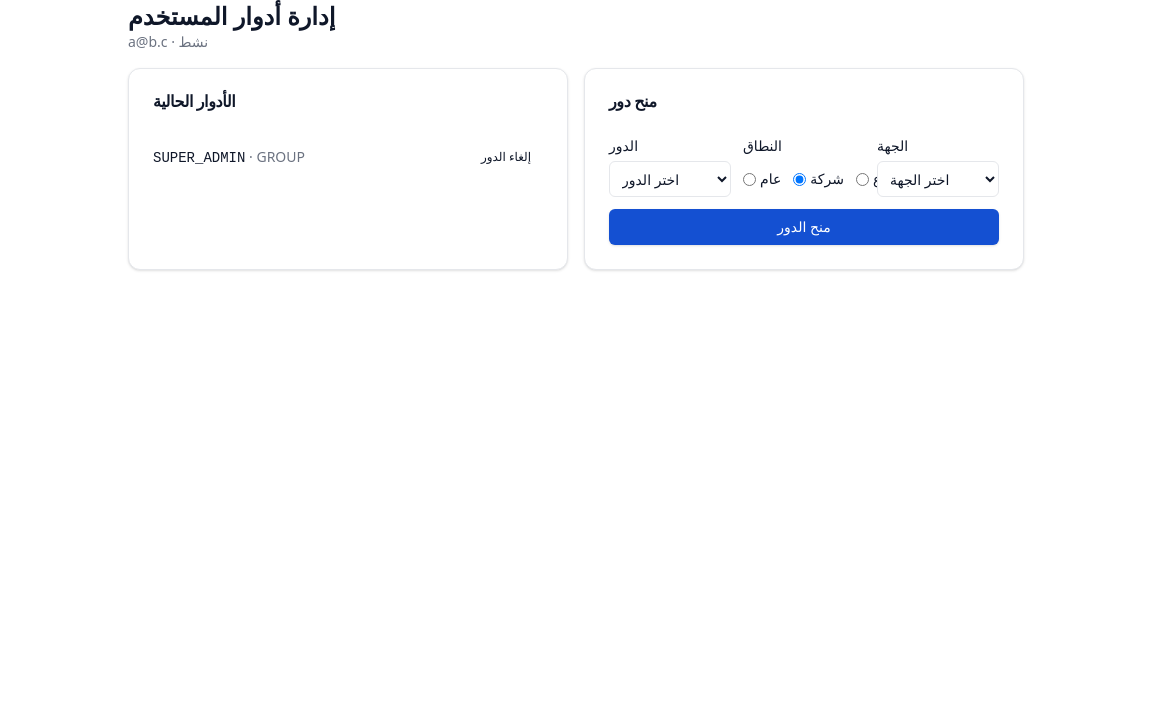
Test: ManageRolesPage › revoking own SUPER_ADMIN shows the strong warning
Click the button "إلغاء الدور" at (506, 157), box [469,141,543,173]
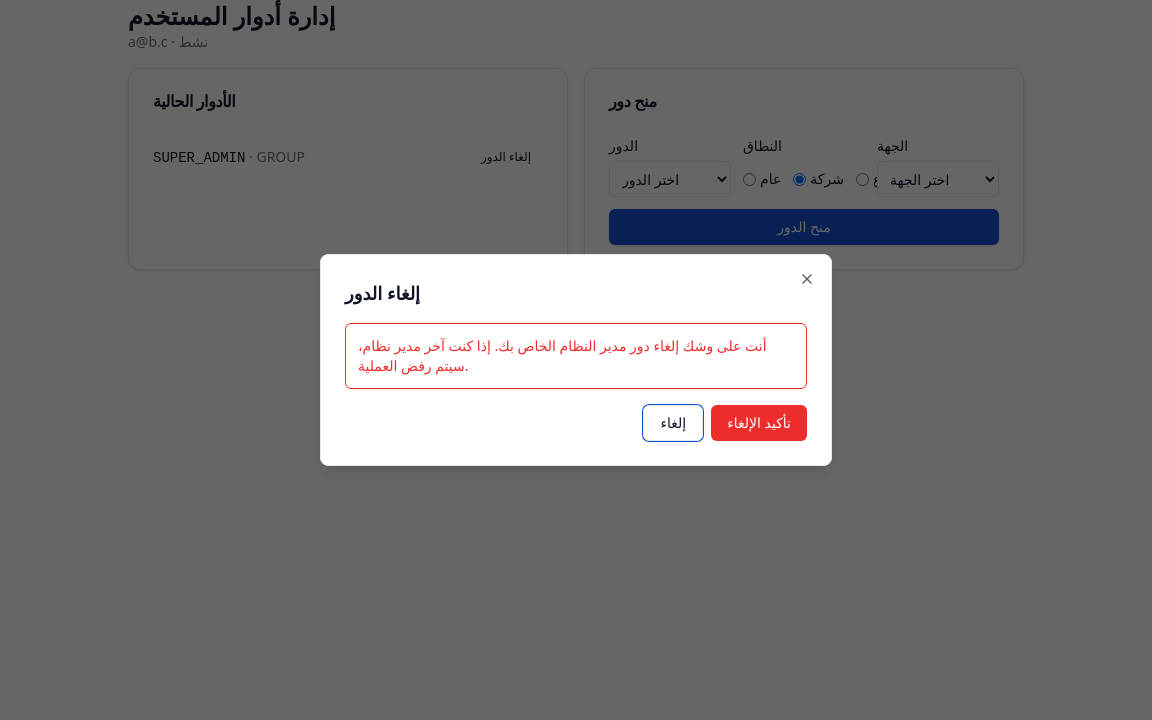
Check: the text "على وشك إلغاء دور مدير النظام" is shown, box [358,336,767,375]
